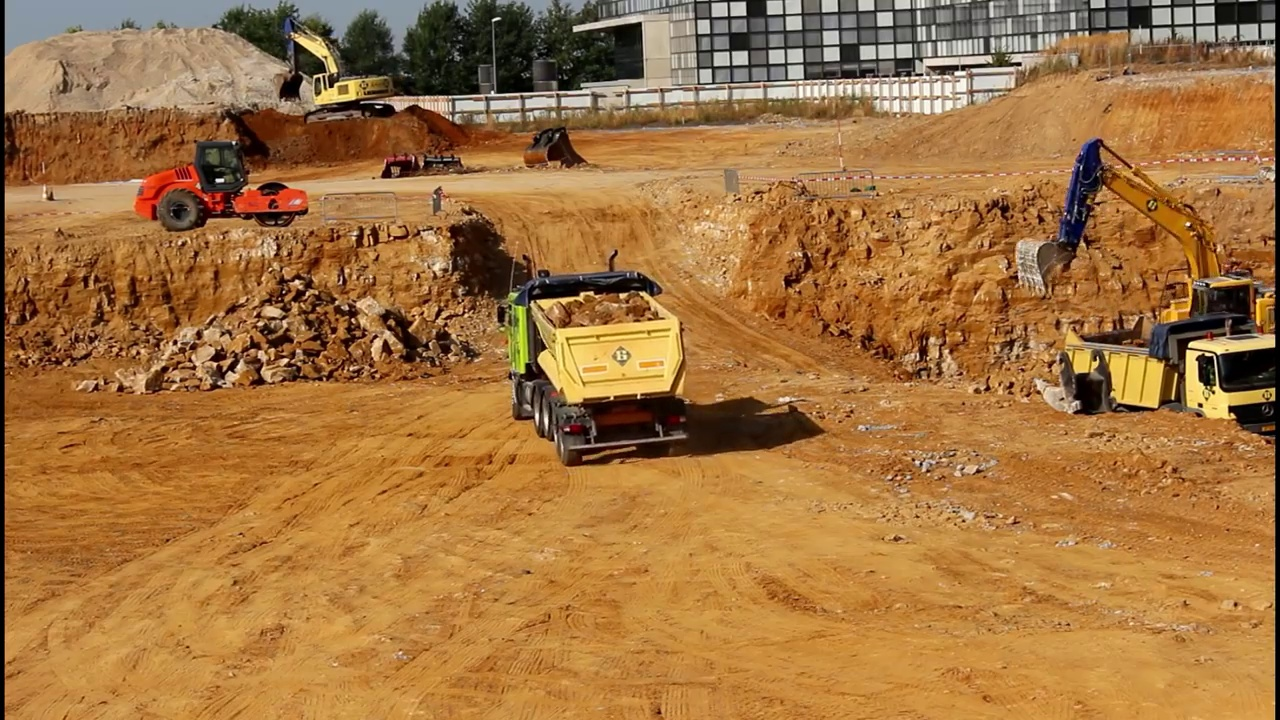compactor: (131, 140, 312, 233)
excavator: (1010, 133, 1280, 397), (277, 16, 400, 130)
truck: (498, 247, 696, 471), (1047, 312, 1280, 469)
